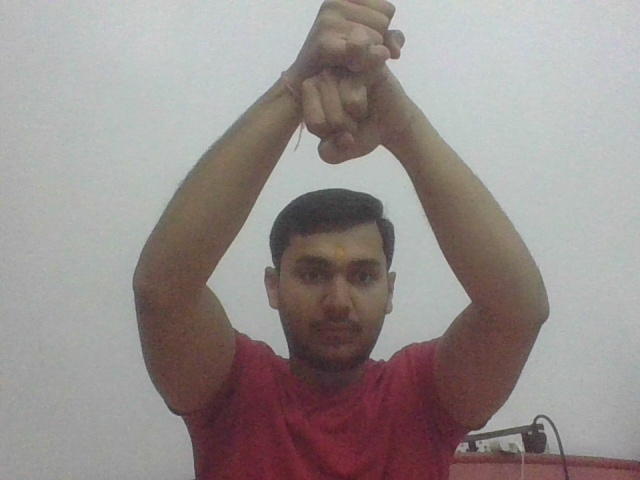S: (296, 1, 405, 169)
